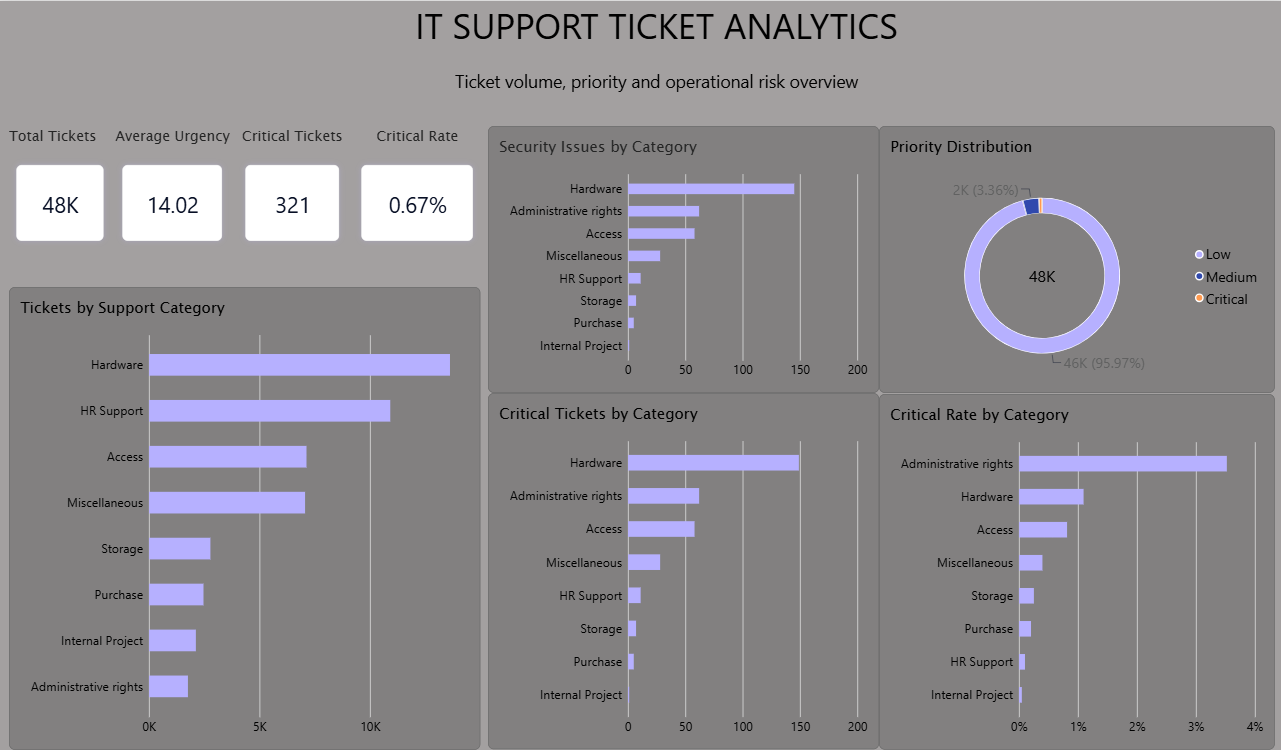

The dashboard page shown, as its layout file describes it:
{"tool":"powerbi","page":{"name":"IT Operations Overview","canvas":[1950,1150],"ordinal":0},"visuals":[{"type":"cardVisual","title":"Total Tickets","fields":{"Data":["it_support_analytics vw_ticket_summary.Total Tickets"]},"box":[14.2,189.8,155.5,186.3],"z":0},{"type":"cardVisual","title":"Critical Tickets","fields":{"Data":["it_support_analytics vw_ticket_summary.Critical Tickets"]},"box":[362,190.1,165.2,186.3],"z":1000},{"type":"cardVisual","title":"Average Urgency","fields":{"Data":["it_support_analytics vw_ticket_summary.Average Urgency"]},"box":[174.9,190.1,174.9,186.3],"z":2000},{"type":"cardVisual","title":"Critical Rate","fields":{"Data":["it_support_analytics vw_ticket_summary.Critical Rate"]},"box":[538.5,190.1,192.7,186.3],"z":3000},{"type":"textbox","box":[556.6,0,883.7,164.3],"z":4000},{"type":"clusteredBarChart","title":"Tickets by Support Category","fields":{"Category":["it_support_analytics vw_ticket_summary.category_name"],"Y":["it_support_analytics vw_ticket_summary.Total Tickets"]},"box":[14.2,434.8,716.6,703.9],"z":5000},{"type":"donutChart","title":"Priority Distribution","fields":{"Category":["it_support_analytics vw_ticket_summary.priority_name"],"Y":["it_support_analytics vw_ticket_summary.Total Tickets"]},"box":[1337,190.1,602.3,406.1],"z":6000},{"type":"clusteredBarChart","title":"Critical Tickets by Category","fields":{"Y":["it_support_analytics vw_ticket_summary.Critical Tickets"],"Category":["it_support_analytics vw_ticket_summary.category_name"]},"box":[742.1,596.2,594.8,542.4],"z":7000},{"type":"clusteredBarChart","title":"Critical Rate by Category","fields":{"Category":["it_support_analytics vw_ticket_summary.category_name"],"Y":["it_support_analytics vw_ticket_summary.Critical Rate"]},"box":[1336.9,597.7,601.9,541],"z":8000},{"type":"clusteredBarChart","title":"Security Issues by Category","fields":{"Category":["it_support_analytics vw_ticket_summary.category_name"],"Y":["it_support_analytics vw_ticket_summary.Security Tickets"]},"box":[742.3,190.1,594.7,406.1],"z":9000}]}

Visuals, with their boxes in screenshot pixels (x1, y1, x2, y2), scaled from the page's 1950x1150 canvas onto the 1281x750 screenshot:
"Total Tickets" cardVisual: region(9, 124, 111, 245)
"Critical Tickets" cardVisual: region(238, 124, 346, 245)
"Average Urgency" cardVisual: region(115, 124, 230, 245)
"Critical Rate" cardVisual: region(354, 124, 480, 245)
textbox: region(366, 0, 946, 107)
"Tickets by Support Category" clusteredBarChart: region(9, 284, 480, 743)
"Priority Distribution" donutChart: region(878, 124, 1274, 389)
"Critical Tickets by Category" clusteredBarChart: region(488, 389, 878, 743)
"Critical Rate by Category" clusteredBarChart: region(878, 390, 1274, 743)
"Security Issues by Category" clusteredBarChart: region(488, 124, 878, 389)
